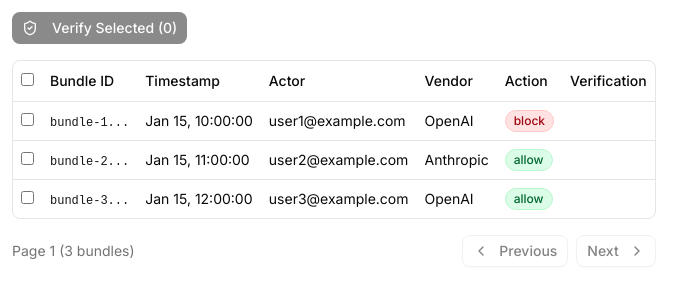
Test: BatchVerifyTable › toggles all rows when header checkbox is clicked
// Click the header checkbox
Step 1. Click the checkbox named "Select all bundles" → {"x": 28, "y": 79}, box [21,73,34,86]
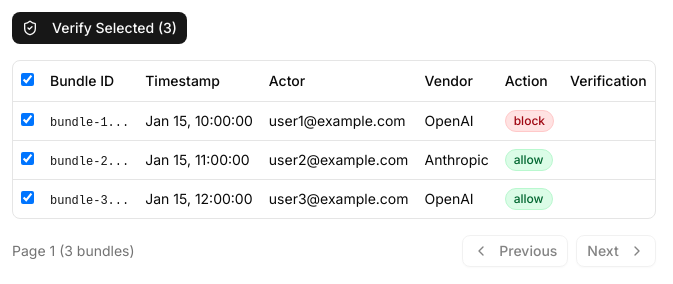
Expected: the button "Verify Selected (3)" is shown, [12,12,187,44]
